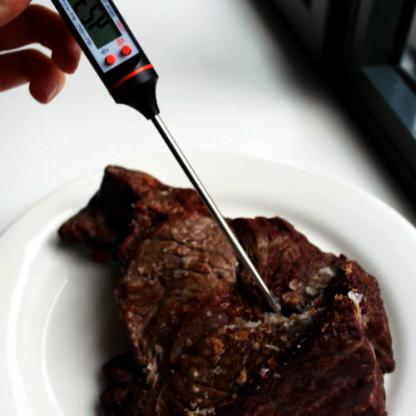Carne: (56, 178, 222, 390), (121, 306, 374, 415)
